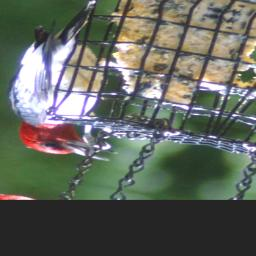Woodpecker: (0, 0, 203, 167)
